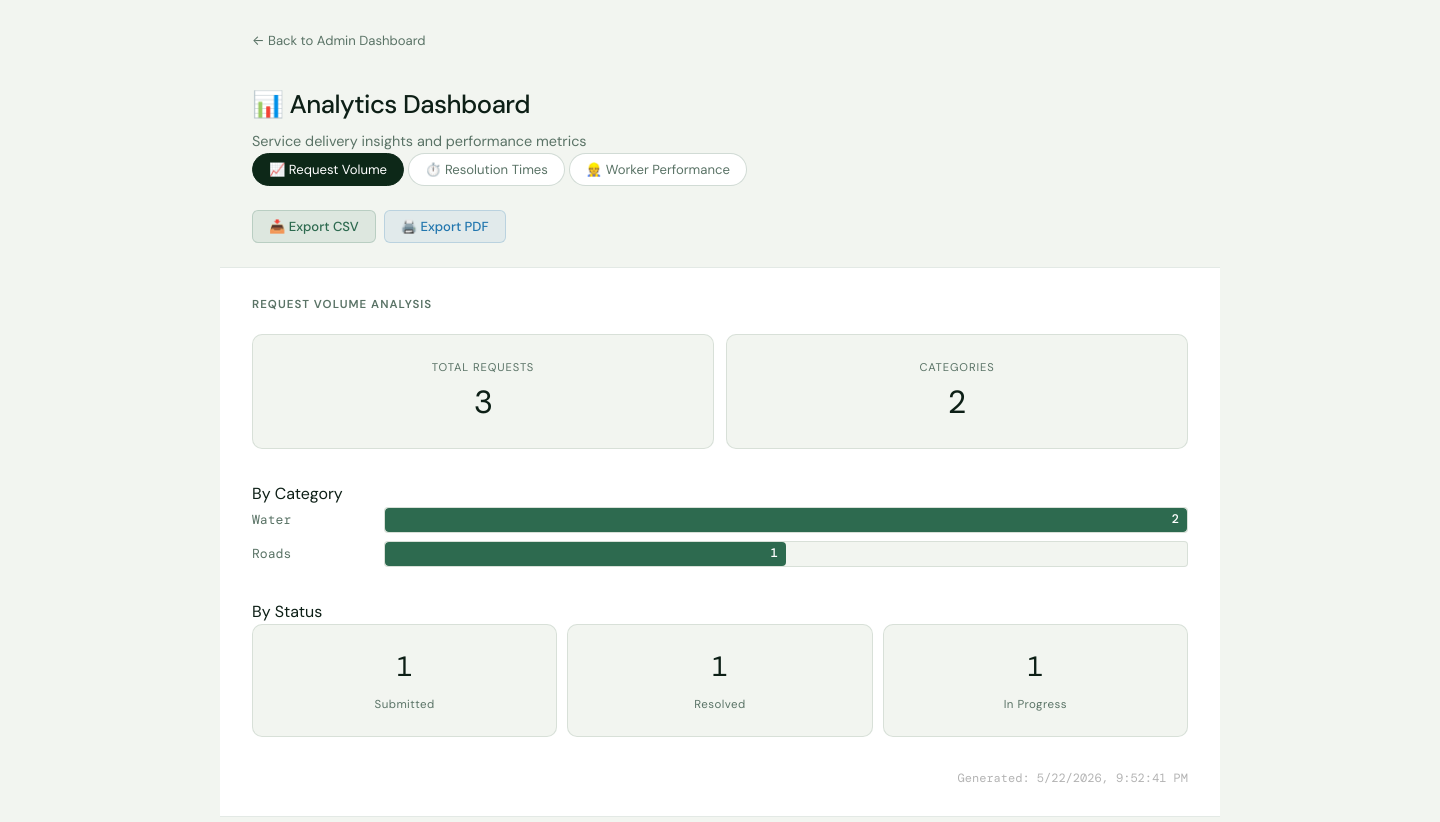
switches to worker performance tab
Click the button "👷 Worker Performance" at (658,169), box [569,153,747,186]
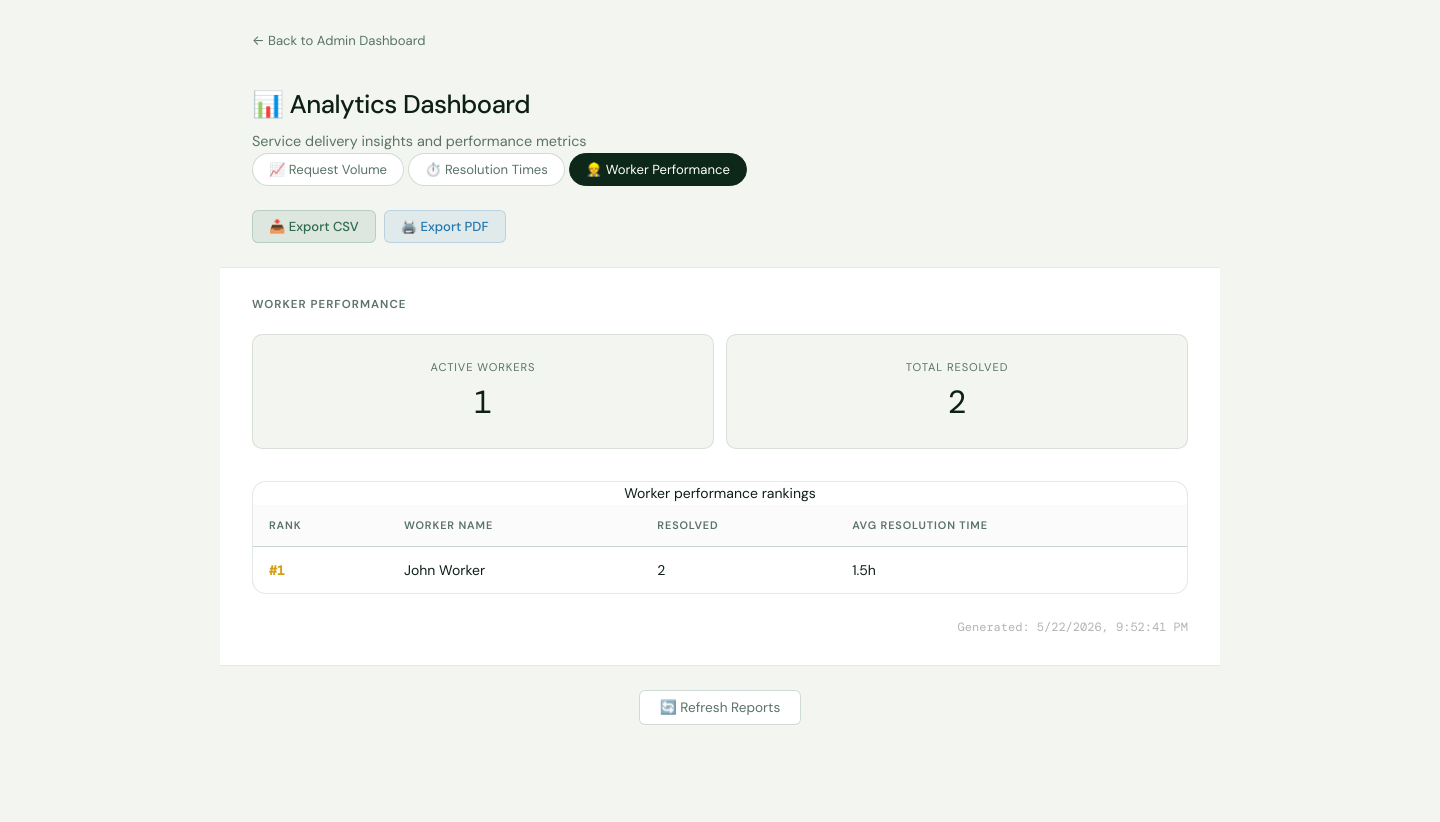
Expected: the heading "Worker Performance" is shown, [252,297,406,312]
Expected: the text "John Worker" is shown, [388,546,641,593]
Expected: the text "Active Workers" is shown, [431,360,536,374]
